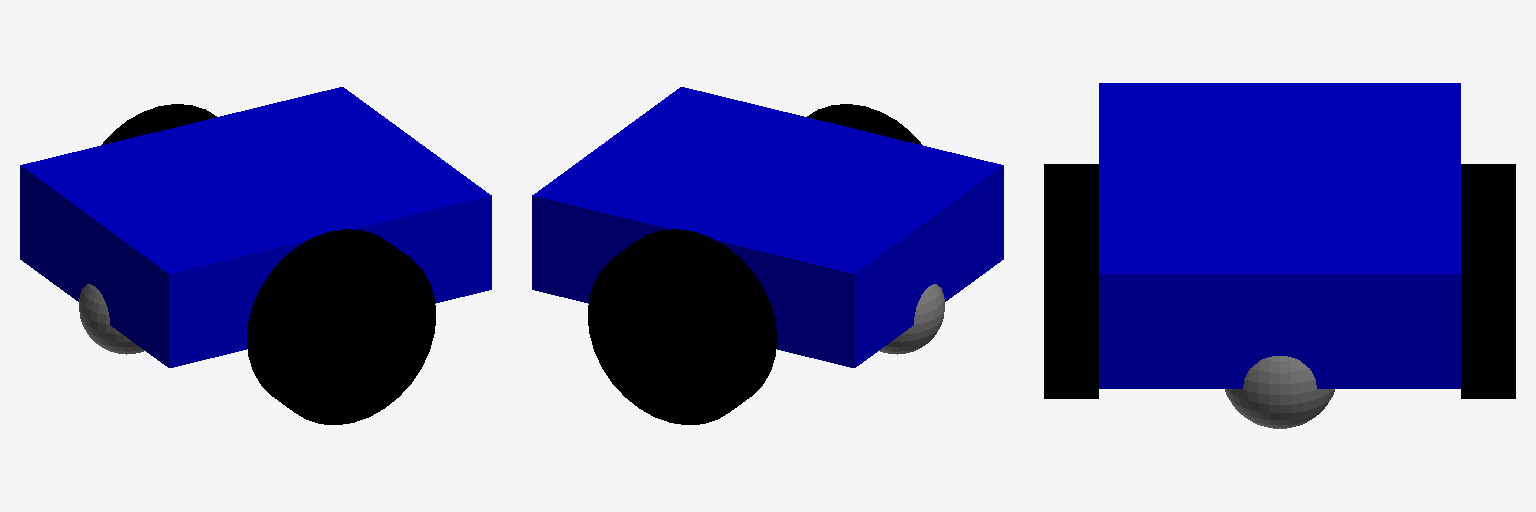
The robot description file, URDF, robot "robot_sederhana":
<?xml version="1.0"?>
<!--
  URDF Sederhana: differential drive robot
  Percobaan 3: Belajar membangun URDF dari awal
  Percobaan 4: Spawn robot ini di Gazebo
-->
<robot name="robot_sederhana" xmlns:xacro="http://www.ros.org/wiki/xacro">

  <!-- ============================================================ -->
  <!-- Properti material -->
  <!-- ============================================================ -->
  <material name="biru">
    <color rgba="0.0 0.0 0.8 1.0"/>
  </material>
  <material name="hitam">
    <color rgba="0.0 0.0 0.0 1.0"/>
  </material>
  <material name="abu_abu">
    <color rgba="0.5 0.5 0.5 1.0"/>
  </material>
  <material name="merah">
    <color rgba="0.8 0.0 0.0 1.0"/>
  </material>

  <!-- ============================================================ -->
  <!-- LINK: base_footprint (titik asal di tanah) -->
  <!-- ============================================================ -->
  <link name="base_footprint"/>

  <joint name="base_footprint_joint" type="fixed">
    <parent link="base_footprint"/>
    <child link="base_link"/>
    <origin xyz="0 0 0.065" rpy="0 0 0"/>
  </joint>

  <!-- ============================================================ -->
  <!-- LINK: base_link (badan utama robot) -->
  <!-- ============================================================ -->
  <link name="base_link">
    <inertial>
      <mass value="1.5"/>
      <origin xyz="0 0 0" rpy="0 0 0"/>
      <inertia
        ixx="0.010416" ixy="0" ixz="0"
        iyy="0.010416" iyz="0"
        izz="0.018750"/>
    </inertial>
    <collision>
      <origin xyz="0 0 0" rpy="0 0 0"/>
      <geometry>
        <box size="0.25 0.20 0.07"/>
      </geometry>
    </collision>
    <visual>
      <origin xyz="0 0 0" rpy="0 0 0"/>
      <geometry>
        <box size="0.25 0.20 0.07"/>
      </geometry>
      <material name="biru"/>
    </visual>
  </link>

  <!-- ============================================================ -->
  <!-- LINK + JOINT: Roda kiri -->
  <!-- ============================================================ -->
  <link name="roda_kiri">
    <inertial>
      <mass value="0.2"/>
      <origin xyz="0 0 0" rpy="0 0 0"/>
      <inertia
        ixx="0.000526" ixy="0" ixz="0"
        iyy="0.000526" iyz="0"
        izz="0.001"/>
    </inertial>
    <collision>
      <origin xyz="0 0 0" rpy="1.5707963 0 0"/>
      <geometry>
        <cylinder radius="0.065" length="0.03"/>
      </geometry>
    </collision>
    <visual>
      <origin xyz="0 0 0" rpy="1.5707963 0 0"/>
      <geometry>
        <cylinder radius="0.065" length="0.03"/>
      </geometry>
      <material name="hitam"/>
    </visual>
  </link>

  <joint name="joint_roda_kiri" type="continuous">
    <parent link="base_link"/>
    <child link="roda_kiri"/>
    <origin xyz="0.0 0.115 -0.0275" rpy="0 0 0"/>
    <axis xyz="0 1 0"/>
    <dynamics damping="0.1"/>
  </joint>

  <!-- ============================================================ -->
  <!-- LINK + JOINT: Roda kanan -->
  <!-- ============================================================ -->
  <link name="roda_kanan">
    <inertial>
      <mass value="0.2"/>
      <origin xyz="0 0 0" rpy="0 0 0"/>
      <inertia
        ixx="0.000526" ixy="0" ixz="0"
        iyy="0.000526" iyz="0"
        izz="0.001"/>
    </inertial>
    <collision>
      <origin xyz="0 0 0" rpy="1.5707963 0 0"/>
      <geometry>
        <cylinder radius="0.065" length="0.03"/>
      </geometry>
    </collision>
    <visual>
      <origin xyz="0 0 0" rpy="1.5707963 0 0"/>
      <geometry>
        <cylinder radius="0.065" length="0.03"/>
      </geometry>
      <material name="hitam"/>
    </visual>
  </link>

  <joint name="joint_roda_kanan" type="continuous">
    <parent link="base_link"/>
    <child link="roda_kanan"/>
    <origin xyz="0.0 -0.115 -0.0275" rpy="0 0 0"/>
    <axis xyz="0 1 0"/>
    <dynamics damping="0.1"/>
  </joint>

  <!-- ============================================================ -->
  <!-- LINK + JOINT: Roda kastor depan (caster wheel) -->
  <!-- ============================================================ -->
  <link name="caster_depan">
    <inertial>
      <mass value="0.05"/>
      <origin xyz="0 0 0" rpy="0 0 0"/>
      <inertia
        ixx="0.000040" ixy="0" ixz="0"
        iyy="0.000040" iyz="0"
        izz="0.000040"/>
    </inertial>
    <collision>
      <origin xyz="0 0 0" rpy="0 0 0"/>
      <geometry>
        <sphere radius="0.0325"/>
      </geometry>
    </collision>
    <visual>
      <origin xyz="0 0 0" rpy="0 0 0"/>
      <geometry>
        <sphere radius="0.0325"/>
      </geometry>
      <material name="abu_abu"/>
    </visual>
  </link>

  <joint name="joint_caster_depan" type="fixed">
    <parent link="base_link"/>
    <child link="caster_depan"/>
    <origin xyz="0.10 0.0 -0.035" rpy="0 0 0"/>
  </joint>

  <!-- ============================================================ -->
  <!-- LINK + JOINT: Roda kastor belakang -->
  <!-- ============================================================ -->
  <link name="caster_belakang">
    <inertial>
      <mass value="0.05"/>
      <origin xyz="0 0 0" rpy="0 0 0"/>
      <inertia
        ixx="0.000040" ixy="0" ixz="0"
        iyy="0.000040" iyz="0"
        izz="0.000040"/>
    </inertial>
    <collision>
      <origin xyz="0 0 0" rpy="0 0 0"/>
      <geometry>
        <sphere radius="0.0325"/>
      </geometry>
    </collision>
    <visual>
      <origin xyz="0 0 0" rpy="0 0 0"/>
      <geometry>
        <sphere radius="0.0325"/>
      </geometry>
      <material name="abu_abu"/>
    </visual>
  </link>

  <joint name="joint_caster_belakang" type="fixed">
    <parent link="base_link"/>
    <child link="caster_belakang"/>
    <origin xyz="-0.10 0.0 -0.035" rpy="0 0 0"/>
  </joint>

  <!-- ============================================================ -->
  <!-- Gazebo: Material warna untuk Gazebo GUI -->
  <!-- ============================================================ -->
  <gazebo reference="base_link">
    <material>Gazebo/Blue</material>
  </gazebo>
  <gazebo reference="roda_kiri">
    <material>Gazebo/Black</material>
    <mu1>1.0</mu1>
    <mu2>1.0</mu2>
  </gazebo>
  <gazebo reference="roda_kanan">
    <material>Gazebo/Black</material>
    <mu1>1.0</mu1>
    <mu2>1.0</mu2>
  </gazebo>
  <gazebo reference="caster_depan">
    <material>Gazebo/Grey</material>
    <mu1>0.0</mu1>
    <mu2>0.0</mu2>
  </gazebo>
  <gazebo reference="caster_belakang">
    <material>Gazebo/Grey</material>
    <mu1>0.0</mu1>
    <mu2>0.0</mu2>
  </gazebo>

</robot>

--- Facts derived from the render (not from the file) ---
3 views of the same robot in one strip: view 1: azimuth 30°, elevation 25°; view 2: azimuth 150°, elevation 25°; view 3: azimuth 270°, elevation 25° (orthographic).
Model robot_sederhana with 6 links and 5 joints (2 continuous, 3 fixed), rooted at base_footprint, posed all joints at 0.
Visible links, largest first — view 1: base_link, roda_kanan, roda_kiri, caster_belakang; view 2: base_link, roda_kiri, roda_kanan, caster_belakang; view 3: base_link, roda_kiri, roda_kanan, caster_depan.
Boxes of the visible links, box(x1,y1,x2,y2) form: base_link: box(20, 87, 491, 367); roda_kanan: box(247, 229, 435, 424); roda_kiri: box(102, 104, 216, 144); caster_belakang: box(79, 284, 144, 354); base_link: box(532, 87, 1003, 367); roda_kiri: box(588, 229, 776, 424); roda_kanan: box(807, 104, 921, 144); caster_belakang: box(879, 284, 944, 354); base_link: box(1099, 83, 1460, 388); roda_kiri: box(1461, 164, 1515, 398); roda_kanan: box(1044, 164, 1098, 398); caster_depan: box(1225, 356, 1334, 428).
Size in the robot's own frame: 0.265 by 0.26 by 0.13 metres.
Geometry: primitives only (box / cylinder / sphere), no mesh files.
